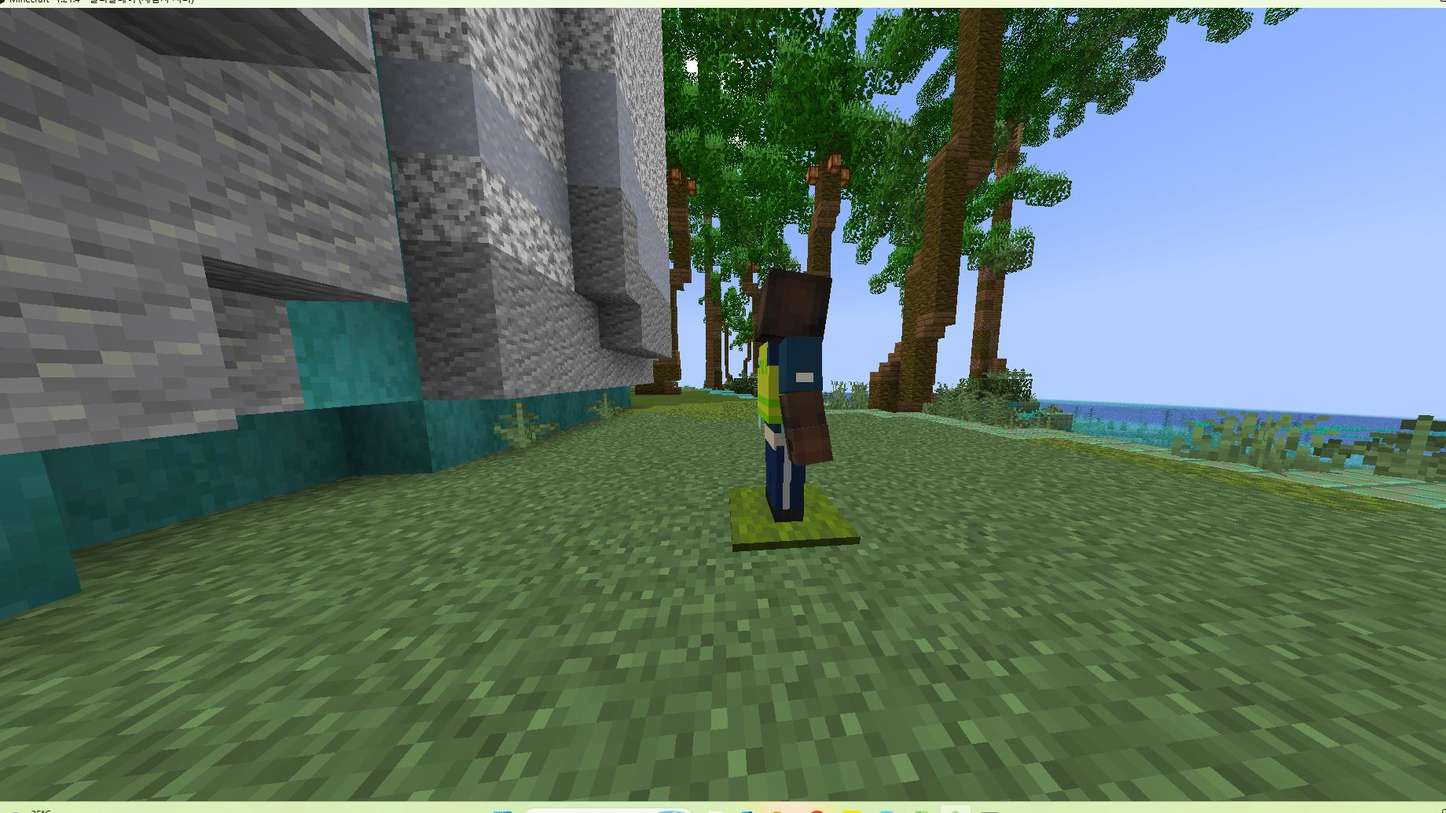Guardian: (753, 269, 832, 523)
